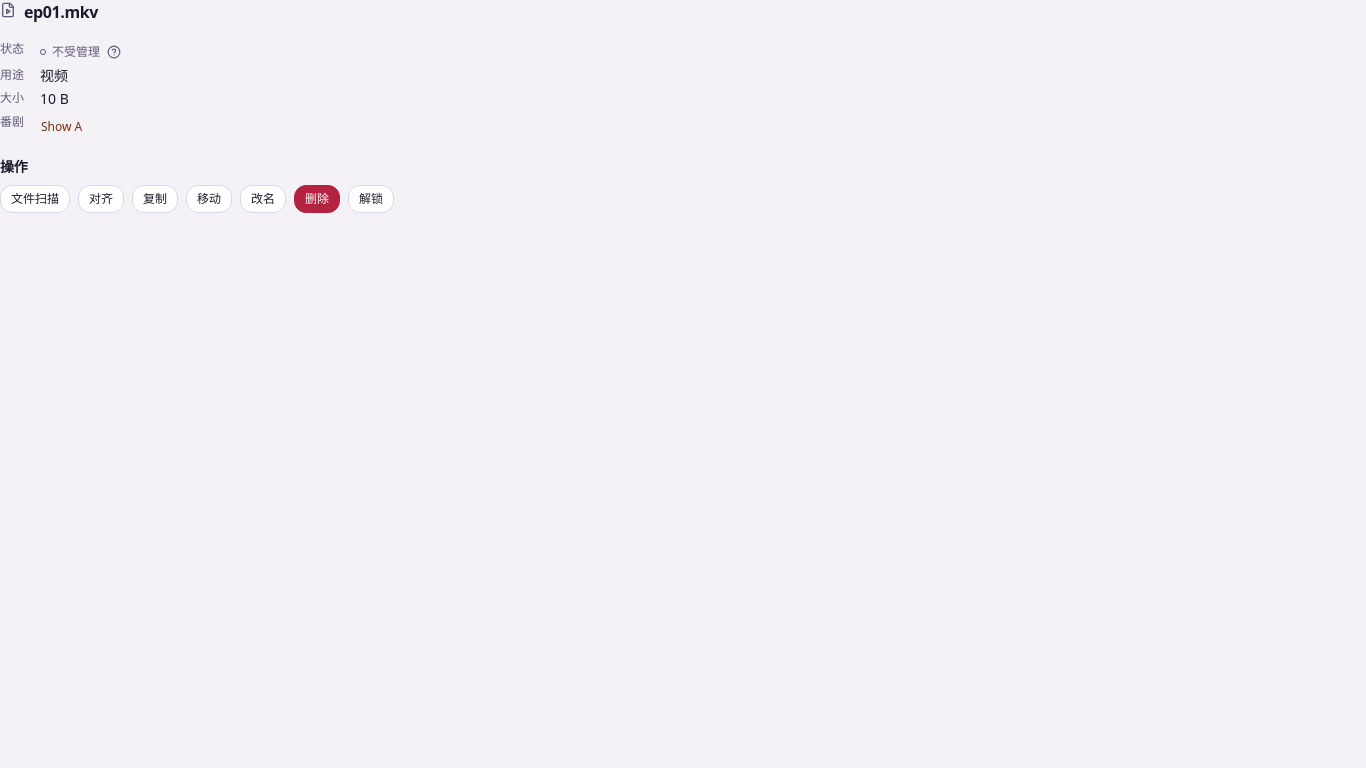
Test: move, rename and copy › submits a move to a free absolute target with the revision and an idempotency key
The width and height of the screenshot is (1366, 768).
Click the button "移动": (209, 198) [186,184,232,212]
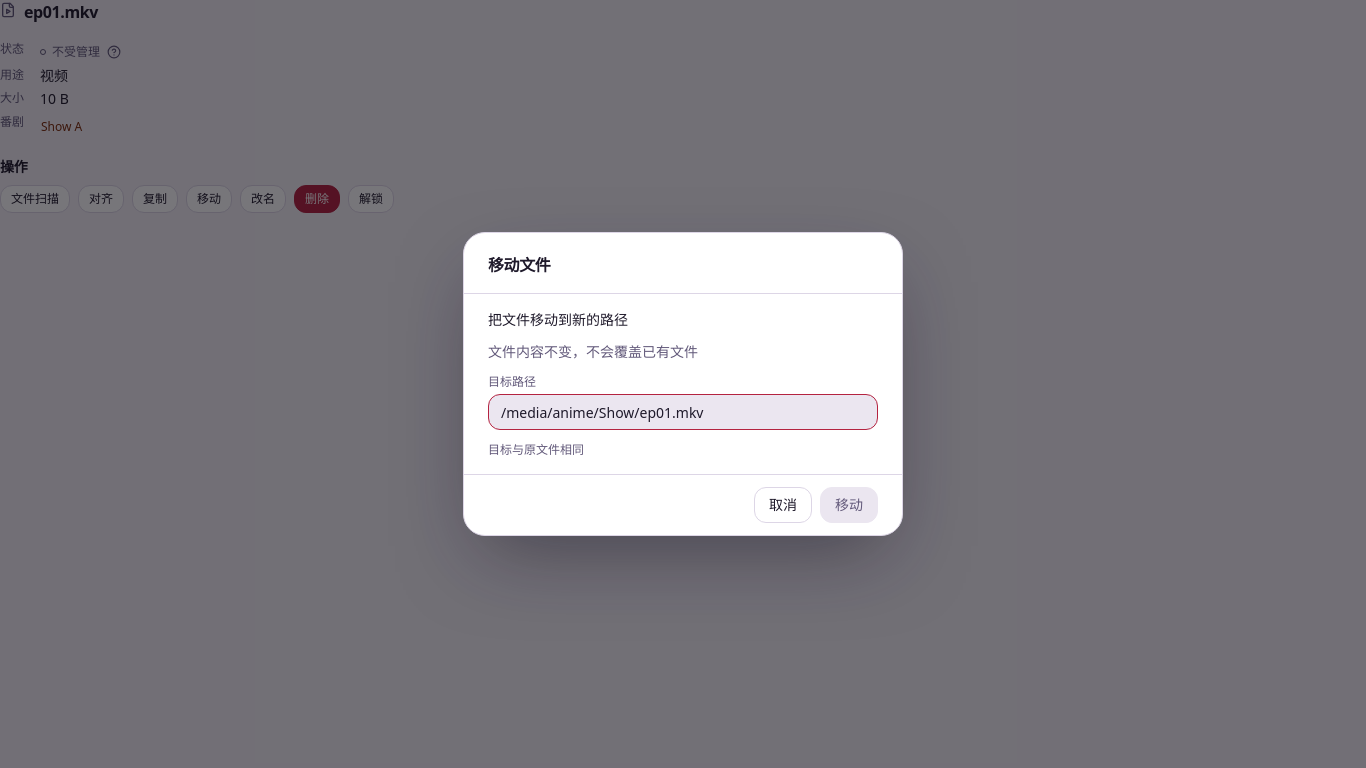
Replace the text in the field labelled "目标路径" with "/media/anime/Show/Season 01/ep01.mkv": (683, 412) [488,394,878,430]
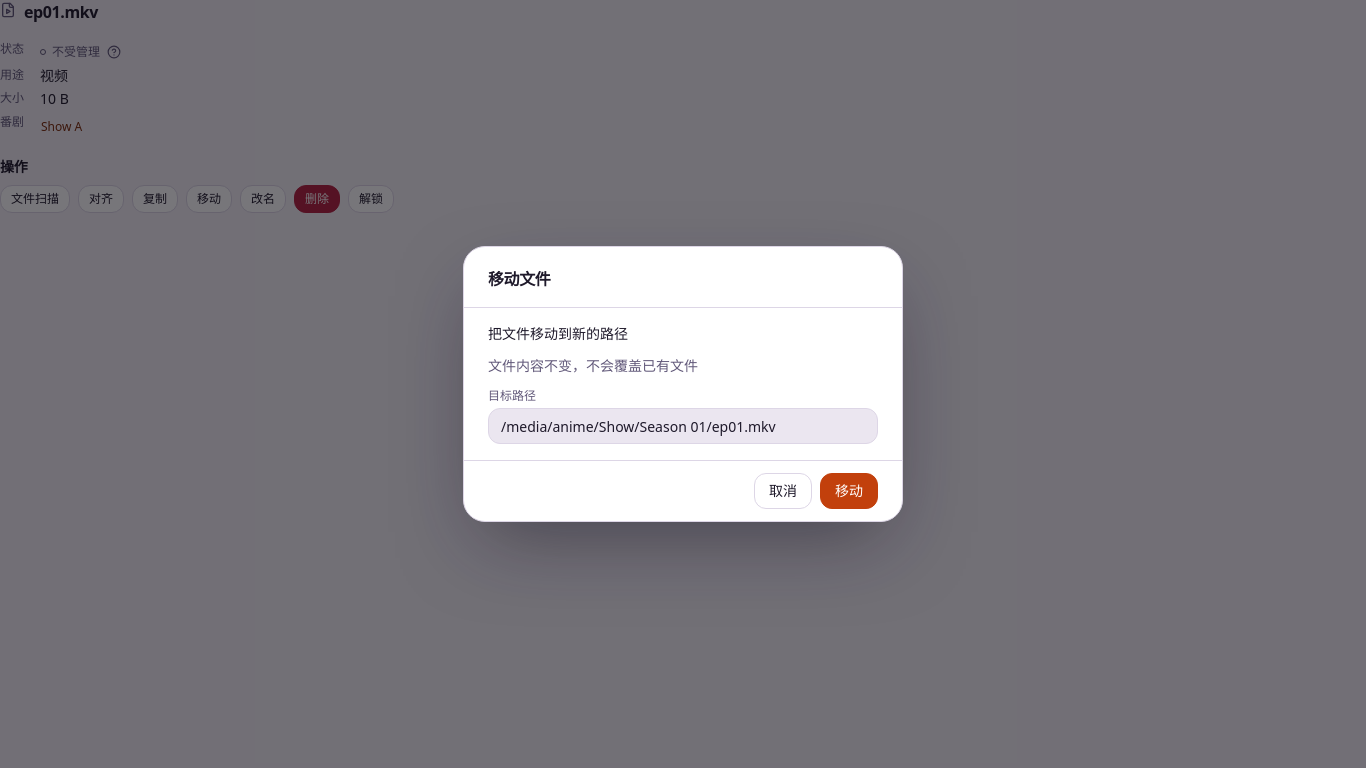
Click the button "移动": (849, 491) [820,473,878,509]
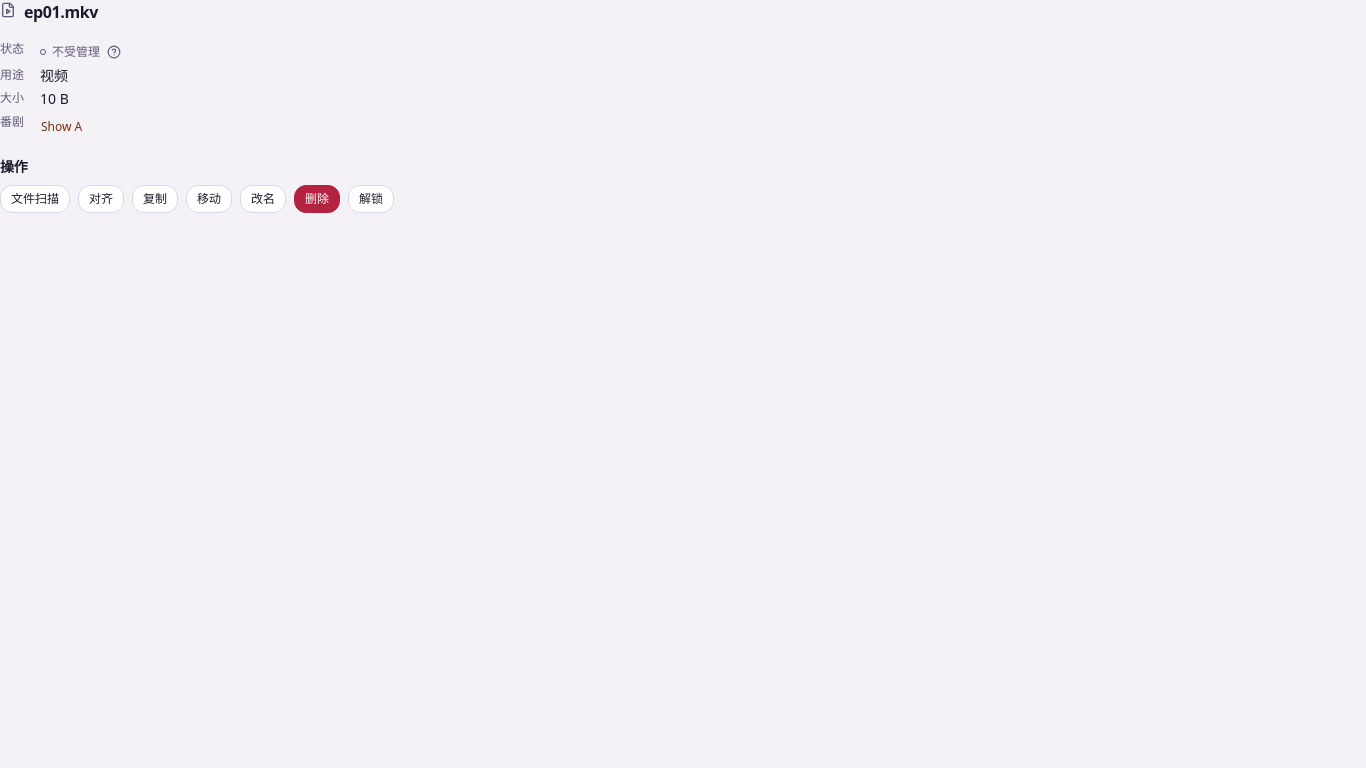
Result: the dialog is gone
